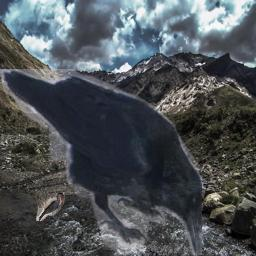Crow: (0, 69, 202, 255)
Swallow: (36, 192, 65, 221)
